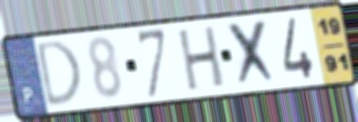4: (282, 15, 316, 81)
7: (135, 27, 171, 101)
8: (85, 34, 124, 103)
D: (35, 38, 85, 111)
H: (177, 23, 227, 94)
X: (224, 16, 280, 90)
